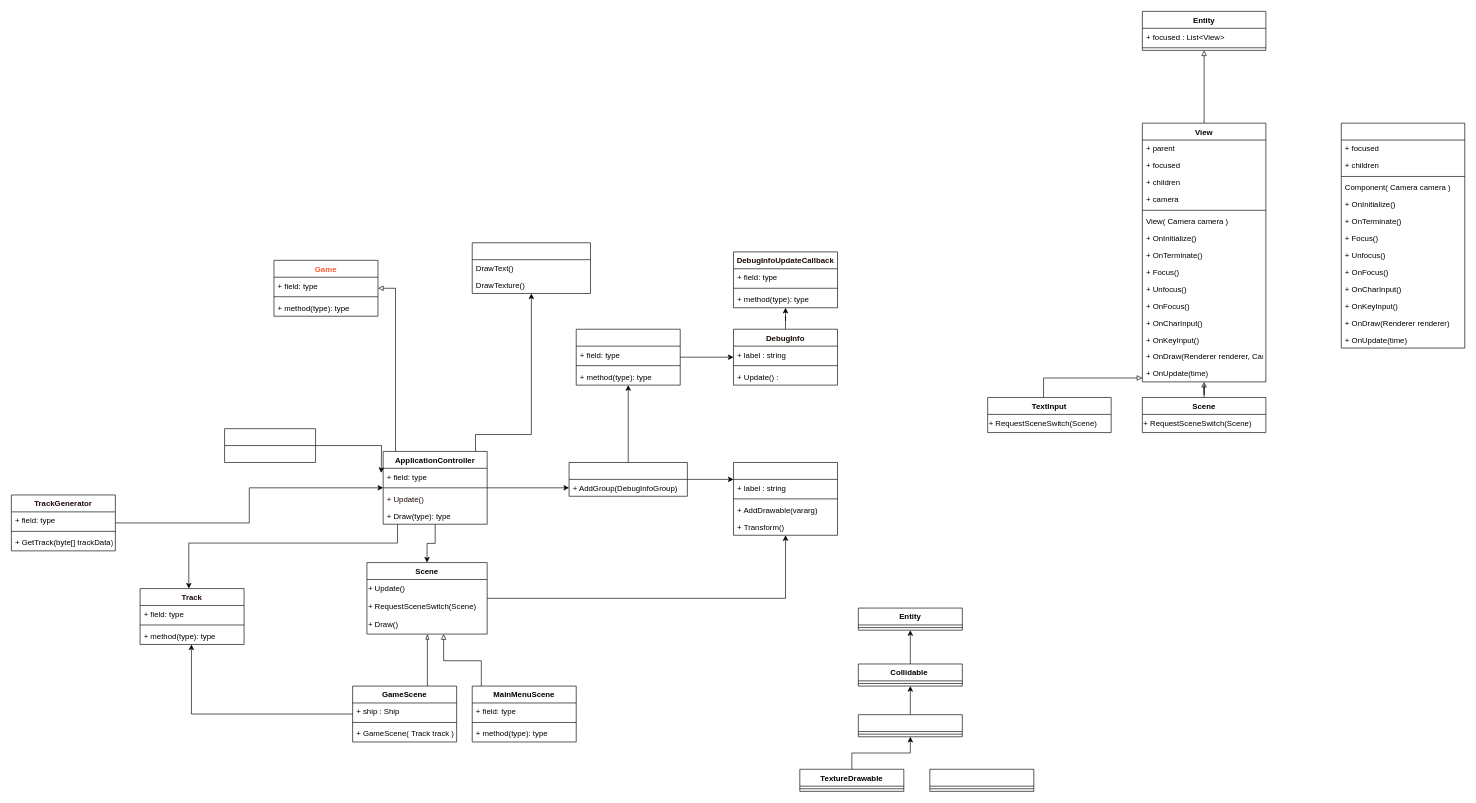
Some shapes in this 1476 by 803 pixel diagram are drawn without their labels. Here are the shapes that lost their labels. From the top down, the box of each, then its label:
(1341, 123, 1465, 348): InputController
(472, 242, 591, 293): Renderer
(576, 329, 680, 385): DebugInfoGroup
(224, 428, 316, 462): Main
(568, 462, 687, 496): DebugInfoOverlay
(733, 462, 838, 535): Camera
(858, 714, 962, 737): Movable
(929, 769, 1034, 791): TextDrawable
